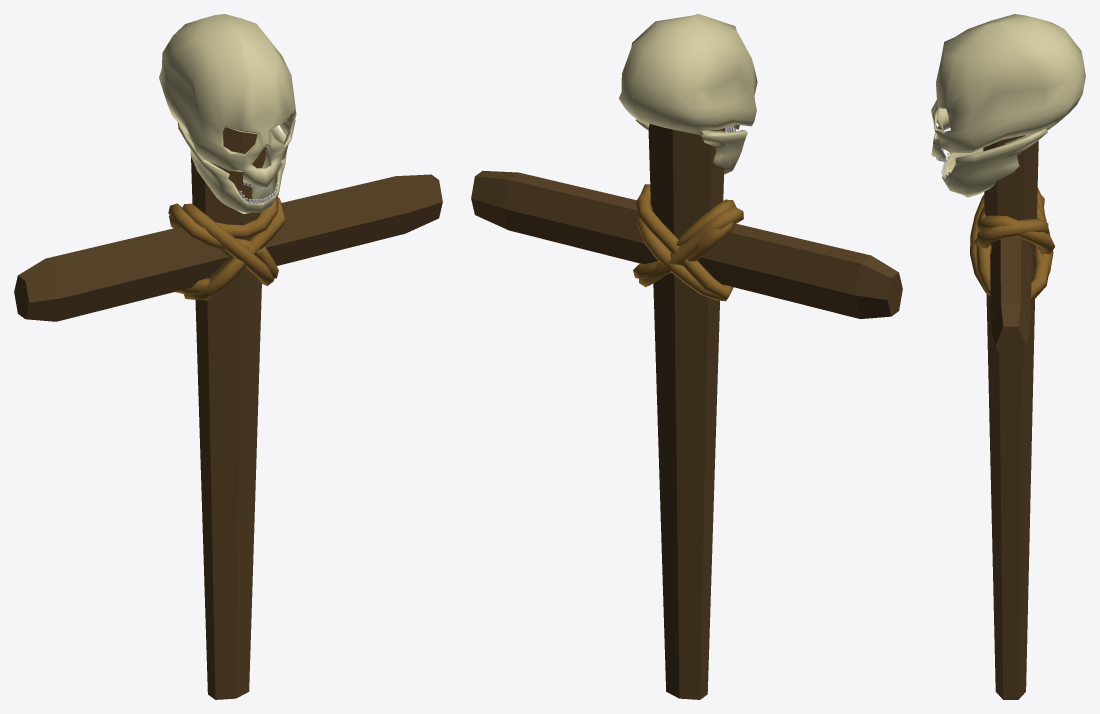
File: SM_WoodenCross_001.fbx
3 renders of one model, left to right at view 1: azimuth 30°, elevation 25°; view 2: azimuth 150°, elevation 25°; view 3: azimuth 270°, elevation 25°, orthographic.
Visible parts, largest first — view 1: WoodenCross; view 2: WoodenCross; view 3: WoodenCross.
Part boxes in pixels (left/top/right/bottom): WoodenCross: left=14, top=14, right=442, bottom=699; WoodenCross: left=471, top=14, right=902, bottom=699; WoodenCross: left=931, top=14, right=1085, bottom=699.
Size of the model in its own units: 68 by 105 by 22.
